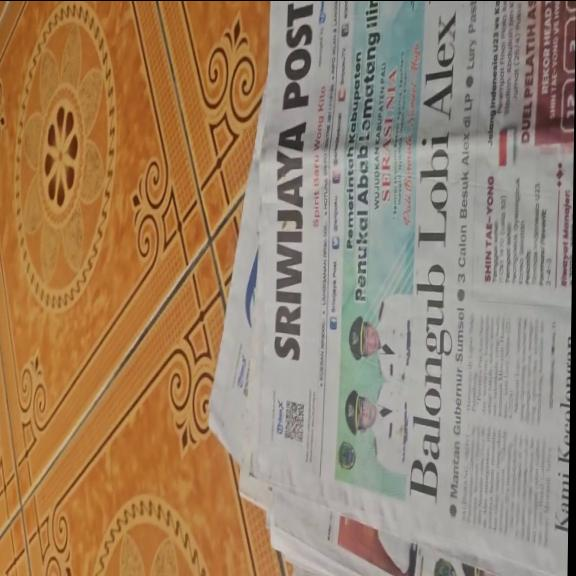Kertas: (258, 10, 576, 524)
